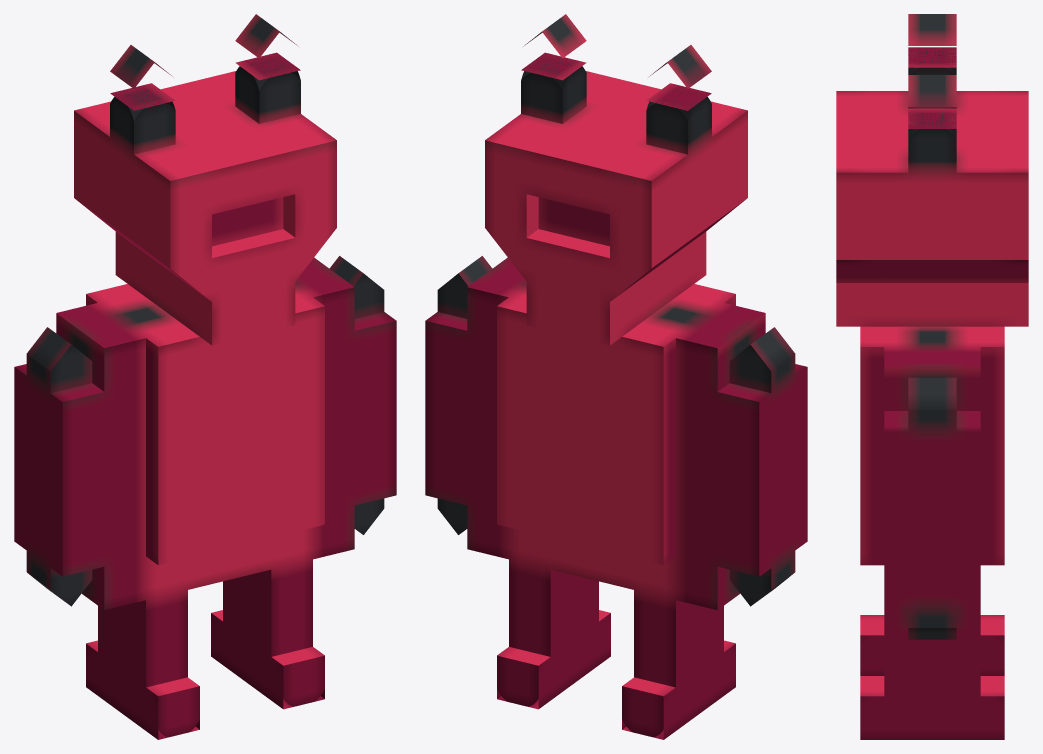
The model's file is MainEnemy.fbx.
3 views of the same model, side by side, from view 1: azimuth 30°, elevation 25°; view 2: azimuth 150°, elevation 25°; view 3: azimuth 270°, elevation 25° (orthographic).
Parts seen in each view (by area): view 1: generated; view 2: generated; view 3: generated.
Boxes of the visible parts, x1,y1,x2,y2 form: generated: (14,14,396,739); generated: (425,14,807,739); generated: (836,14,1028,739).
Bounding box in the file's own units: 80 × 150 × 40.
